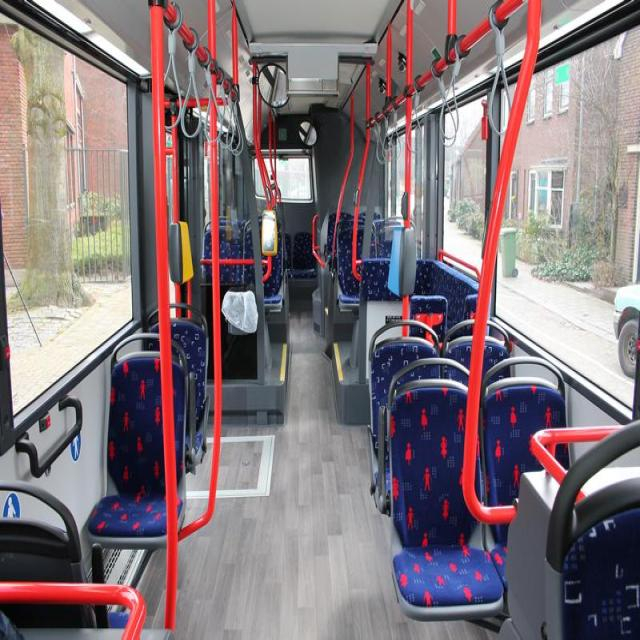empty-seat-frontal: (384, 352, 504, 618), (84, 331, 188, 547)
